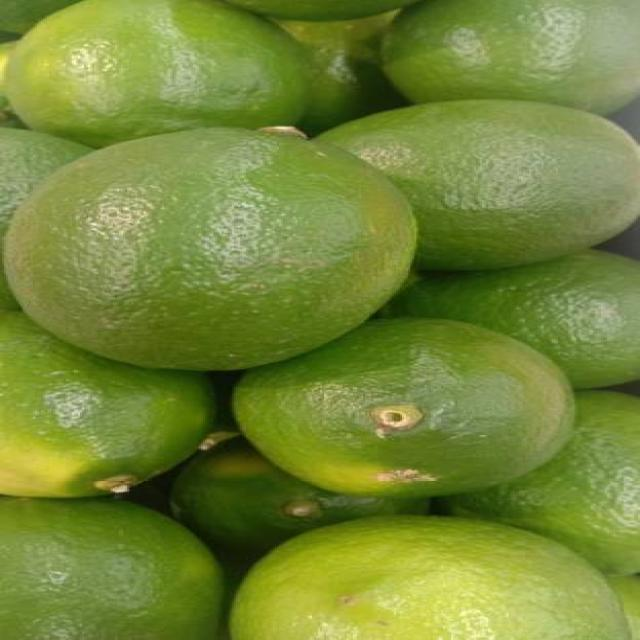Unripe: (3, 124, 420, 374), (231, 314, 576, 501), (234, 517, 634, 640)
